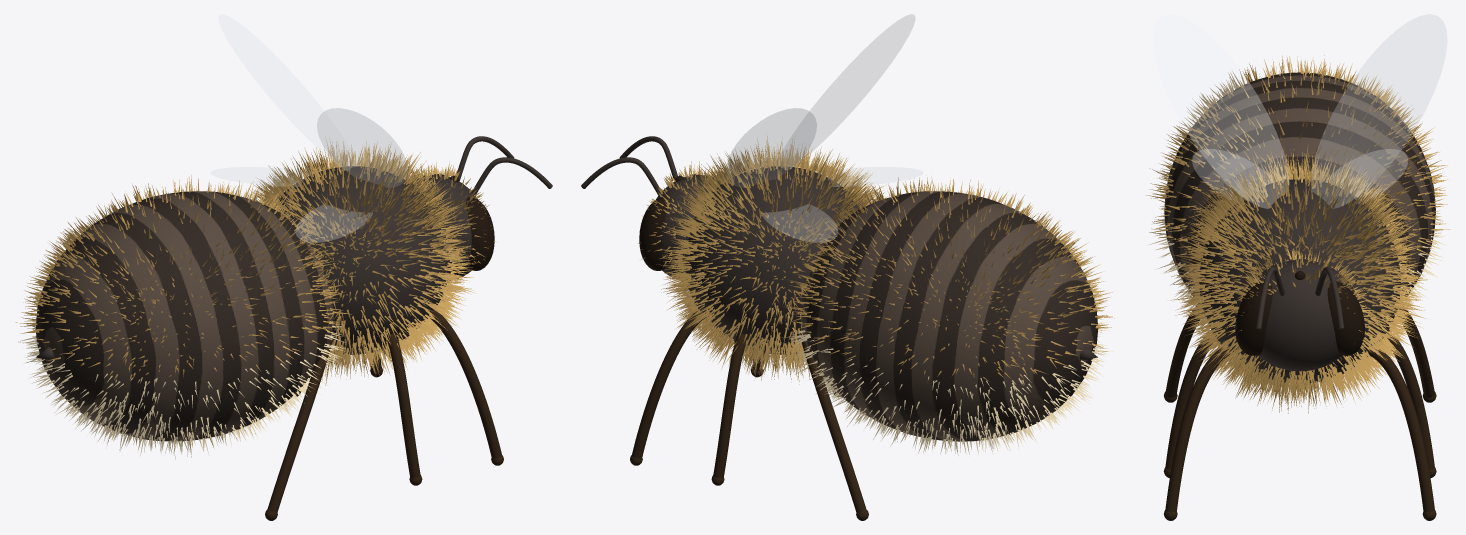
File: bee-hero-osmia.glb
3 views of the same model, side by side, from view 1: azimuth 30°, elevation 25°; view 2: azimuth 150°, elevation 25°; view 3: azimuth 270°, elevation 25° (orthographic). The views are drawn at different scales.
Parts seen in each view (by area): view 1: abdomen, fuzz, thorax, foreWingL, foreWingR, head, hindLegR, hindWingR, foreLegR, midLegR, compoundEyeR, hindWingL; view 2: abdomen, fuzz, thorax, foreWingR, foreWingL, head, hindWingL, hindLegL, foreLegL, midLegL, compoundEyeL, hindWingR; view 3: fuzz, abdomen, thorax, foreWingL, foreWingR, head, foreLegL, foreLegR, hindWingL, hindWingR, compoundEyeL, compoundEyeR (+6 smaller).
Part boxes in pixels (bbox=[...]): abdomen: bbox=[35, 191, 333, 441]; fuzz: bbox=[15, 140, 497, 459]; thorax: bbox=[274, 166, 450, 354]; foreWingL: bbox=[218, 14, 357, 170]; foreWingR: bbox=[317, 108, 407, 187]; head: bbox=[412, 175, 477, 281]; hindLegR: bbox=[267, 335, 333, 512]; hindWingR: bbox=[295, 204, 372, 242]; foreLegR: bbox=[429, 309, 501, 458]; midLegR: bbox=[387, 333, 420, 478]; compoundEyeR: bbox=[466, 197, 494, 270]; hindWingL: bbox=[211, 167, 311, 186]; abdomen: bbox=[800, 191, 1098, 441]; fuzz: bbox=[638, 134, 1114, 455]; thorax: bbox=[683, 166, 858, 354]; foreWingR: bbox=[778, 14, 915, 170]; foreWingL: bbox=[726, 108, 816, 187]; head: bbox=[656, 175, 721, 277]; hindWingL: bbox=[762, 204, 837, 242]; hindLegL: bbox=[801, 334, 866, 513]; foreLegL: bbox=[631, 309, 705, 458]; midLegL: bbox=[713, 333, 747, 478]; compoundEyeL: bbox=[639, 197, 667, 270]; hindWingR: bbox=[817, 167, 922, 186]; fuzz: bbox=[1146, 55, 1450, 413]; abdomen: bbox=[1164, 72, 1435, 299]; thorax: bbox=[1199, 179, 1400, 383]; foreWingL: bbox=[1311, 14, 1447, 208]; foreWingR: bbox=[1153, 14, 1288, 208]; head: bbox=[1241, 260, 1358, 371]; foreLegL: bbox=[1367, 349, 1434, 512]; foreLegR: bbox=[1165, 346, 1233, 512]; hindWingL: bbox=[1325, 149, 1407, 203]; hindWingR: bbox=[1192, 149, 1272, 200]; compoundEyeL: bbox=[1327, 281, 1364, 355]; compoundEyeR: bbox=[1235, 282, 1272, 355].
Size of the model in its own units: 1.28 by 0.9763 by 0.6422.
Materials: 7 (1 with a texture image).
